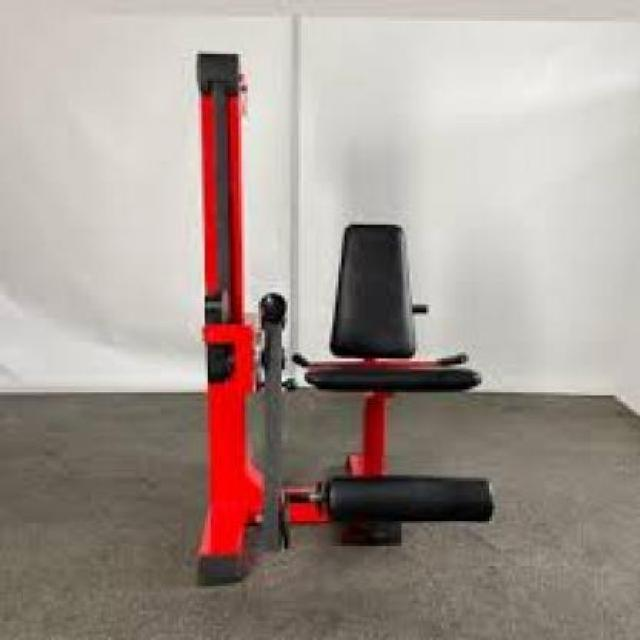leg extension: (166, 35, 543, 597)
